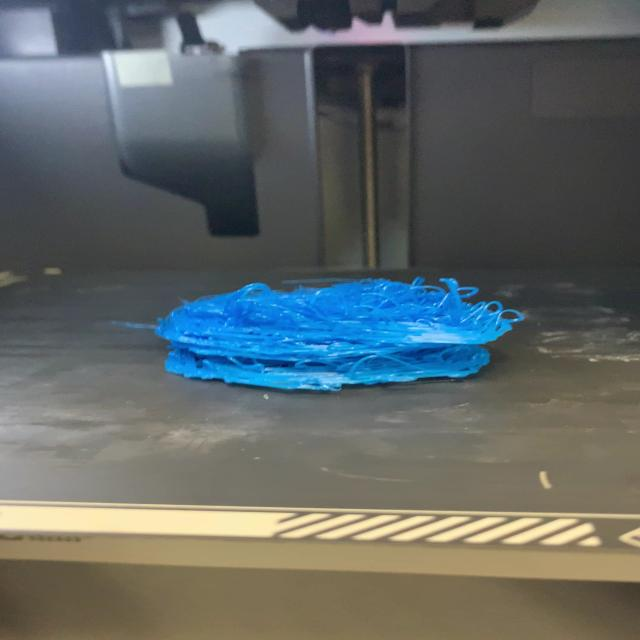spaghetti: (135, 273, 528, 393)
